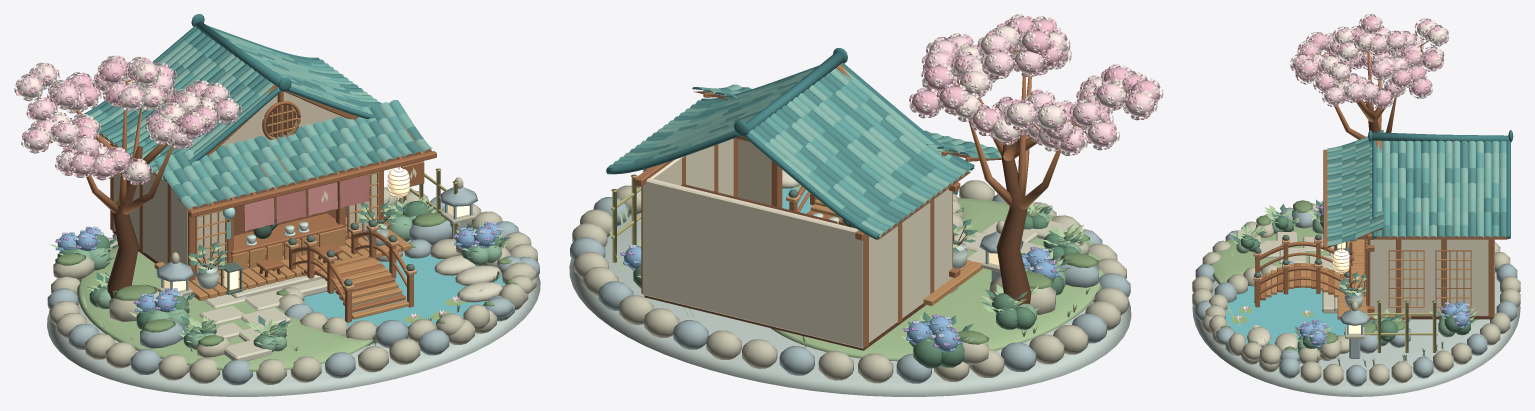
The model's file is rain-tea-garden.glb.
3 views of the same model, side by side, from view 1: azimuth 30°, elevation 25°; view 2: azimuth 150°, elevation 25°; view 3: azimuth 270°, elevation 25° (orthographic). The views are drawn at different scales.
Visible parts, largest first — view 1: Island_Rim.001, Island_Base, Garden_Soil, Pond_Stones.001, WaterSurface, Island_Rim, Sakura_Flowers_1, Sakura_Canopy_1, Awning_Tiles.002, Sakura_Flowers_0, Awning_Tiles.003, Awning_Tiles.001 (+53 smaller); view 2: House_Plaster, Island_Base, Island_Rim.001, Garden_Soil, Roof_Tiles.003, Roof_Tiles.002, Island_Rim, Roof_Tiles, Roof_Tiles.001, Sakura_Canopy_1, Sakura_Flowers_1, Sakura_Flowers_2 (+20 smaller); view 3: Island_Base, House_Plaster, Island_Rim.001, Roof_Tiles.001, Roof_Tiles.002, WaterSurface, Roof_Tiles.003, Island_Rim, Sakura_Flowers_0, Roof_Tiles, Pond_Stones.001, Sakura_Canopy_0 (+36 smaller).
Boxes of the visible parts, x1,y1,x2,y2 form: Island_Rim.001: (49,187,537,384); Island_Base: (47,240,540,396); Garden_Soil: (77,246,372,371); Pond_Stones.001: (278,239,536,346); WaterSurface: (304,255,505,327); Island_Rim: (47,197,539,385); Sakura_Flowers_1: (14,55,236,185); Sakura_Canopy_1: (24,58,238,172); Awning_Tiles.002: (172,104,423,203); Sakura_Flowers_0: (21,55,238,184); Awning_Tiles.003: (180,102,432,210); Awning_Tiles.001: (163,107,415,205); House_Plaster: (642,138,952,348); Island_Base: (569,213,1131,396); Island_Rim.001: (572,180,1128,383); Garden_Soil: (771,198,1104,361); Roof_Tiles.003: (608,73,974,225); Roof_Tiles.002: (655,68,951,237); Island_Rim: (570,194,1130,383); Roof_Tiles: (613,68,963,233); Roof_Tiles.001: (624,67,968,229); Sakura_Canopy_1: (925,34,1153,152); Sakura_Flowers_1: (909,15,1160,149); Sakura_Flowers_2: (917,18,1163,155); Island_Base: (1192,273,1520,396); House_Plaster: (1369,239,1494,316); Island_Rim.001: (1192,203,1520,385); Roof_Tiles.001: (1376,140,1506,238); Roof_Tiles.002: (1382,140,1506,237); WaterSurface: (1225,286,1346,351); Roof_Tiles.003: (1374,140,1507,238); Island_Rim: (1195,207,1517,386); Sakura_Flowers_0: (1290,16,1447,106); Roof_Tiles: (1376,140,1506,238); Pond_Stones.001: (1205,263,1349,364); Sakura_Canopy_0: (1292,16,1441,107).
Bounding box in the file's own units: 13.69 × 8.09 × 10.11.
